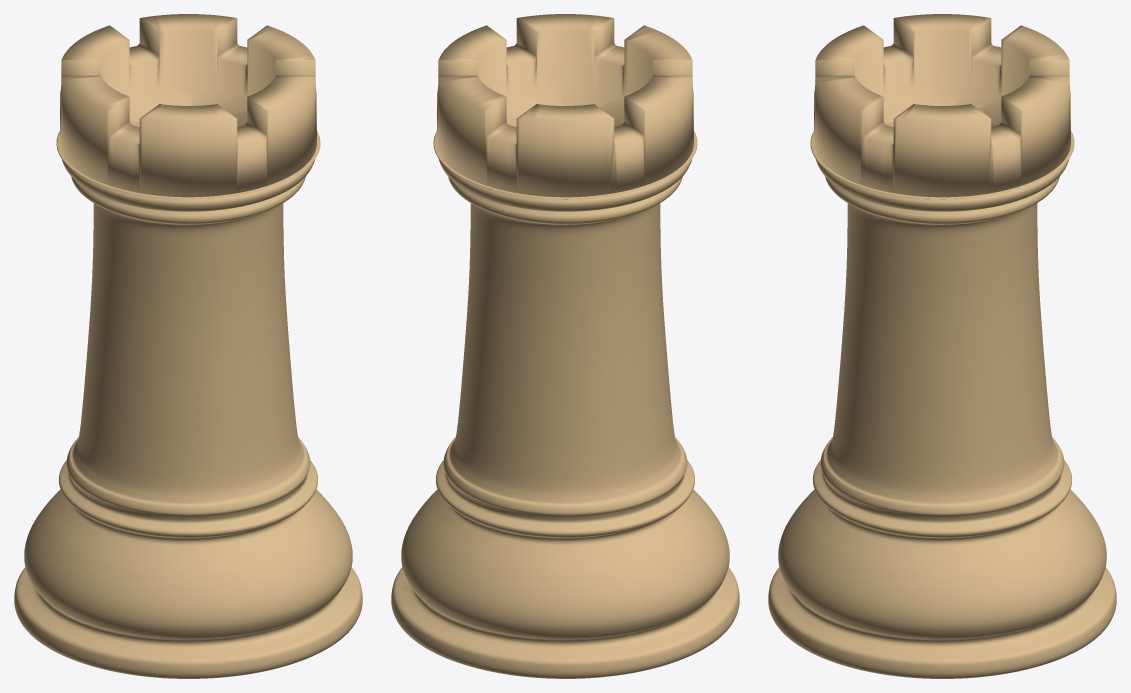
Rendered from rook.glb.
3 renders of one model, left to right at view 1: azimuth 30°, elevation 25°; view 2: azimuth 150°, elevation 25°; view 3: azimuth 270°, elevation 25°, orthographic.
Parts seen in each view (by area): view 1: Rook.002; view 2: Rook.002; view 3: Rook.002.
Boxes of the visible parts, x1,y1,x2,y2 form: Rook.002: (14,14,362,678); Rook.002: (391,14,739,678); Rook.002: (768,14,1116,678).
Bounding box in the file's own units: 0.0369 × 0.064 × 0.0369.
